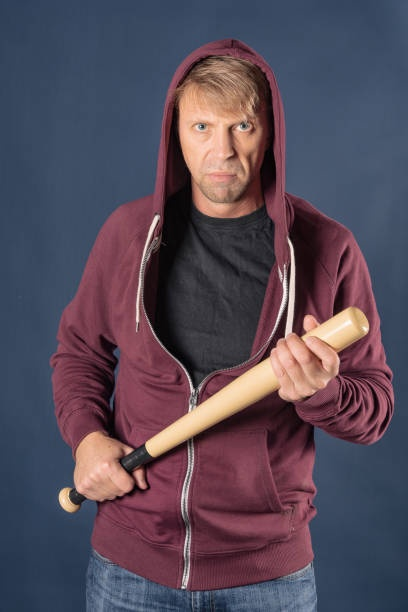bita: (100, 319, 364, 480)
